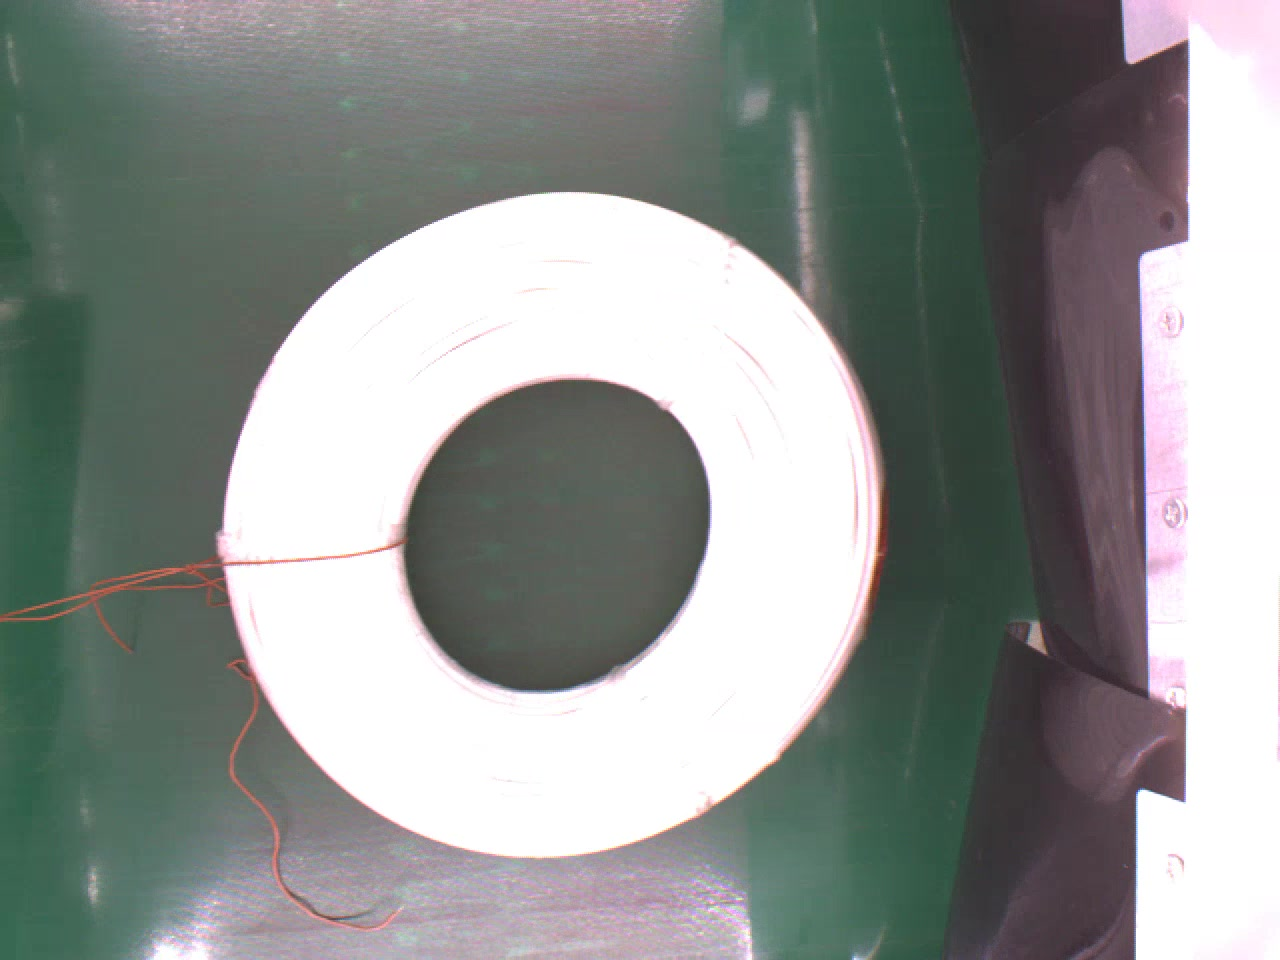white: (215, 190, 893, 861)
